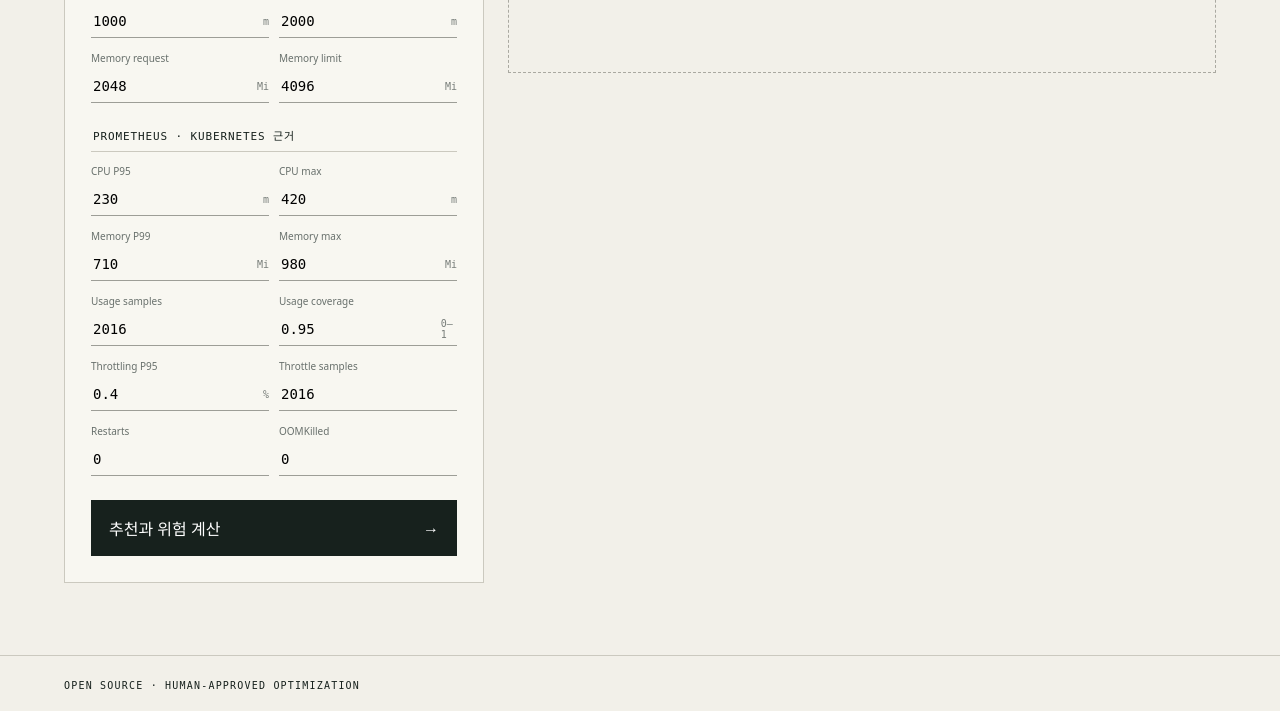
Scenario: KubeFit dashboard › shows a stable API error
(page scrolled)
Click the button "추천과 위험 계산 →": (165, 529) [91,500,457,556]
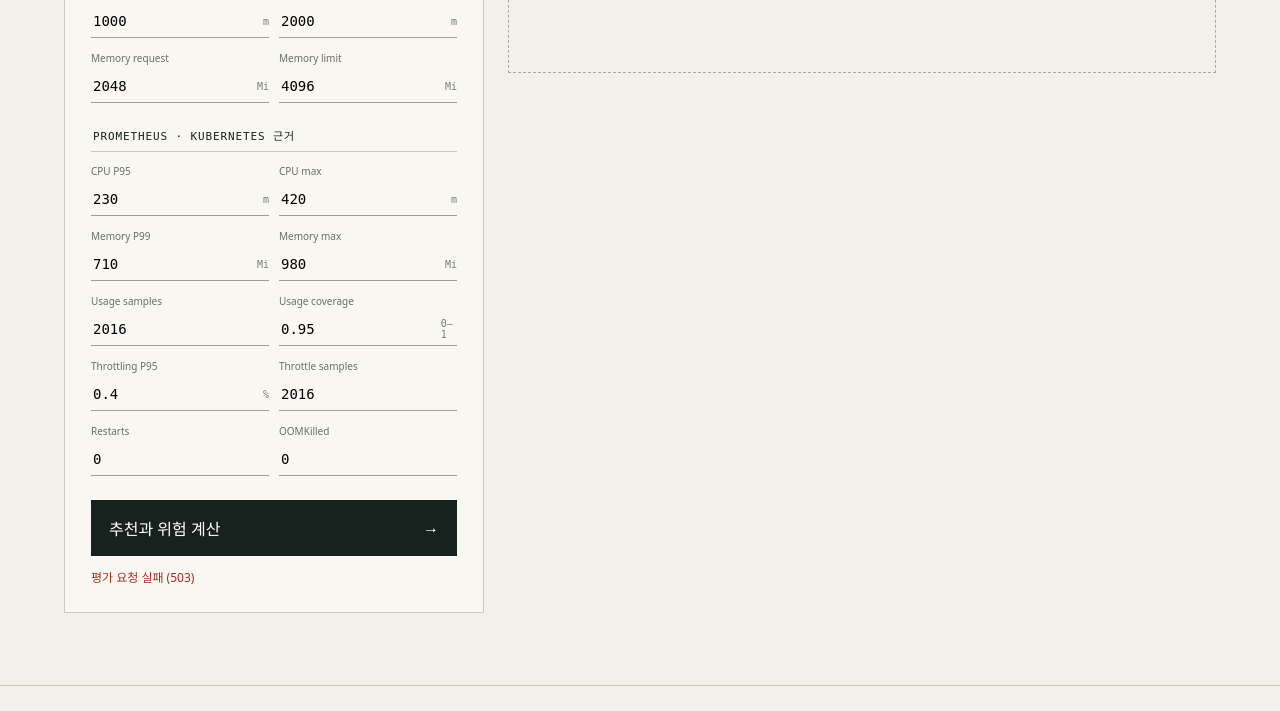
Check: the message reads "평가 요청 실패 (503)", box [91,569,194,586]
